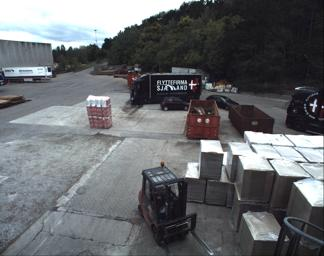rockwool_batts: (86, 94, 112, 126)
